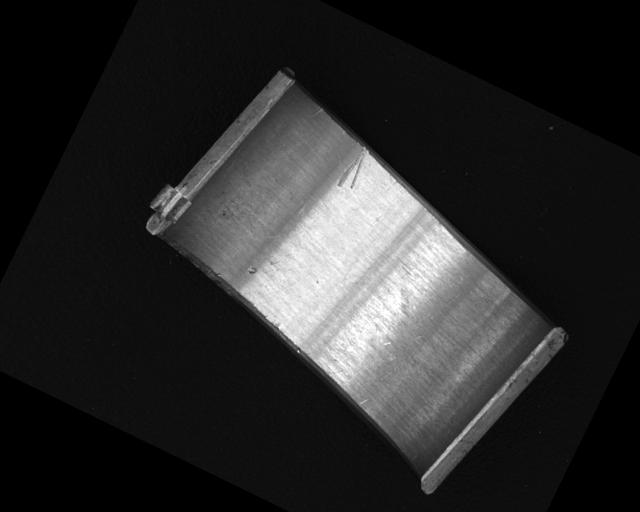bruise: (244, 263, 259, 278)
nick: (334, 142, 374, 193), (310, 103, 324, 120)
